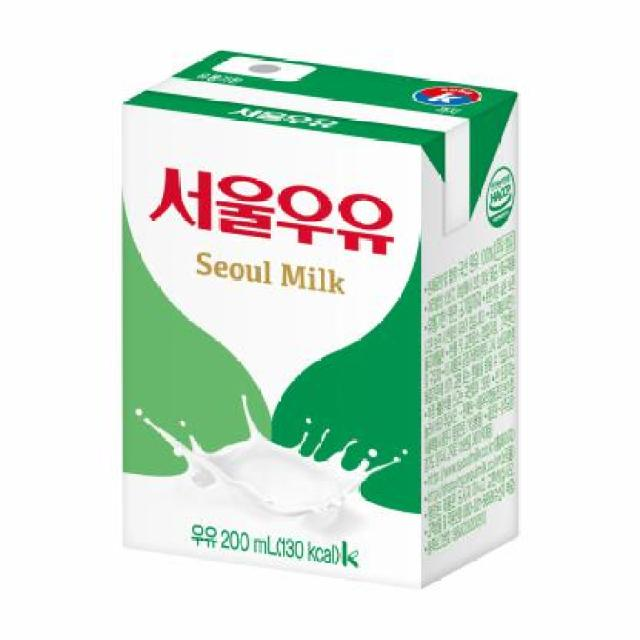tetra: (89, 0, 580, 638)
